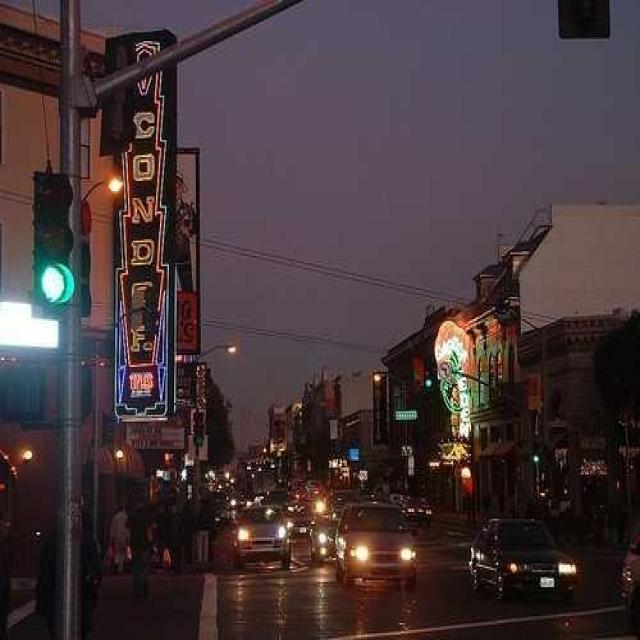Traffic Light -Green-: (31, 165, 77, 324)
